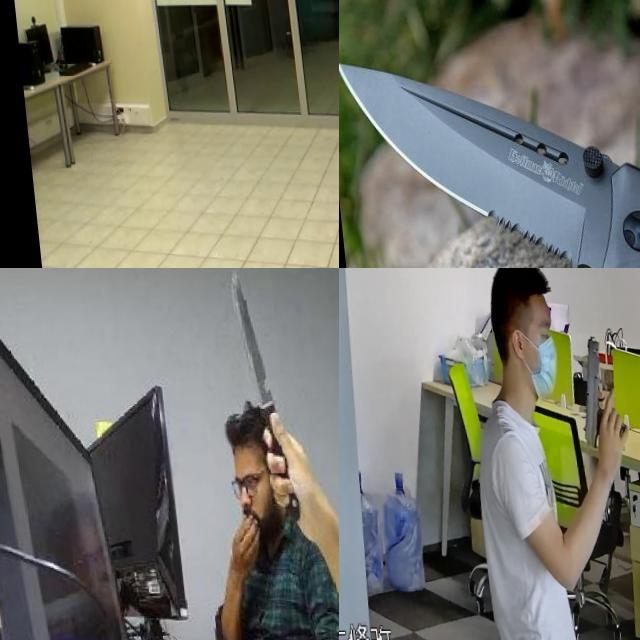-: (339, 45, 630, 268), (228, 268, 279, 423)
gun-knife-thesis - v11 Yolov5 augmented: (566, 336, 622, 456)
